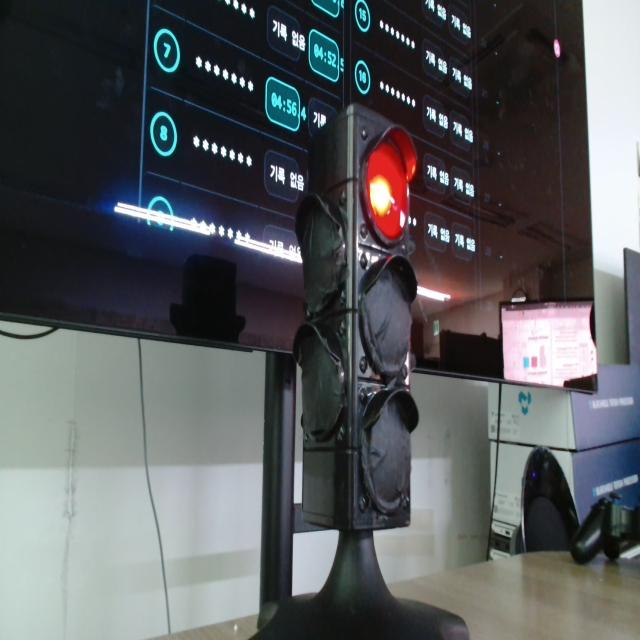red_light: (366, 142, 408, 242)
